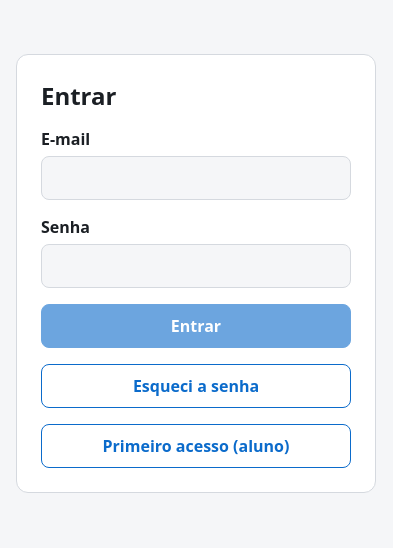
Test case: primeiro acesso do aluno (ADR 0039) › o CPF não aceita letras
The width and height of the screenshot is (393, 548).
Click the button "Primeiro acesso (aluno)" at (196, 446), box [41,424,351,468]
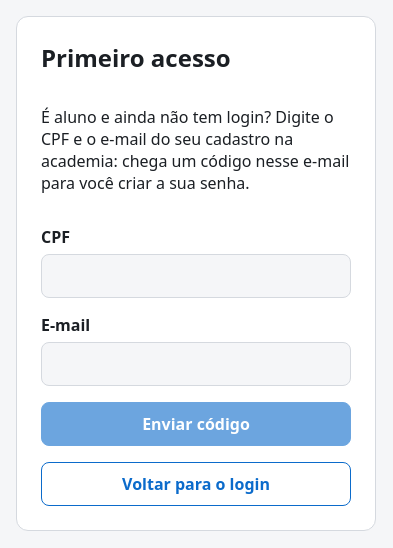
Type "529a.982" into the field labelled "CPF" at (196, 276), box [41,254,351,298]
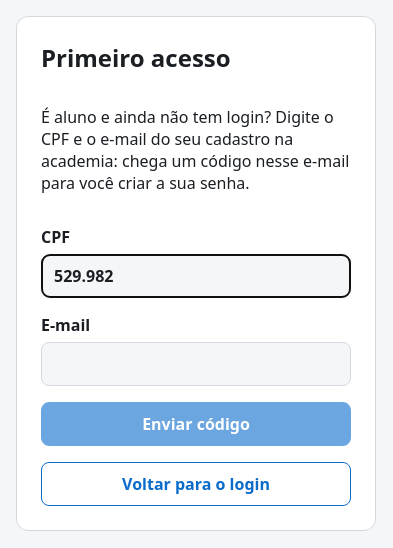
Check: the field labelled "CPF" holds "529.982", box [41,254,351,298]
